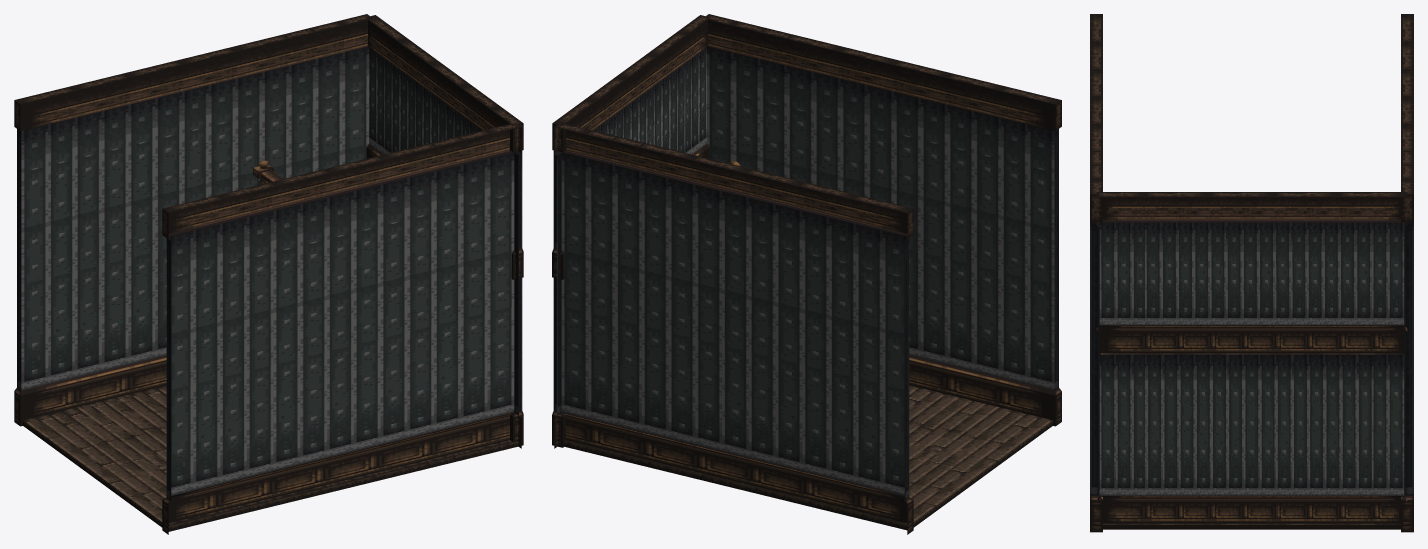
The model's file is EnvBdgMD_Wilderness_A_Indoor_A_Shop_Item_A.FBX.
The picture shows the model from 3 angles, left to right: view 1: azimuth 30°, elevation 25°; view 2: azimuth 150°, elevation 25°; view 3: azimuth 270°, elevation 25°; orthographic projection. The views are drawn at different scales.
Parts seen in each view (by area): view 1: EnvBdgMD_Wilderness_A_Indoor_A_Shop_Item_A; view 2: EnvBdgMD_Wilderness_A_Indoor_A_Shop_Item_A; view 3: EnvBdgMD_Wilderness_A_Indoor_A_Shop_Item_A.
Part boxes in pixels (x1,y1,x2,y2): EnvBdgMD_Wilderness_A_Indoor_A_Shop_Item_A: (14,14,523,534); EnvBdgMD_Wilderness_A_Indoor_A_Shop_Item_A: (552,14,1061,534); EnvBdgMD_Wilderness_A_Indoor_A_Shop_Item_A: (1090,14,1413,532).
Size of the model in its own units: 1340 by 1150 by 1000.
Materials: 1 (1 with a texture image).
